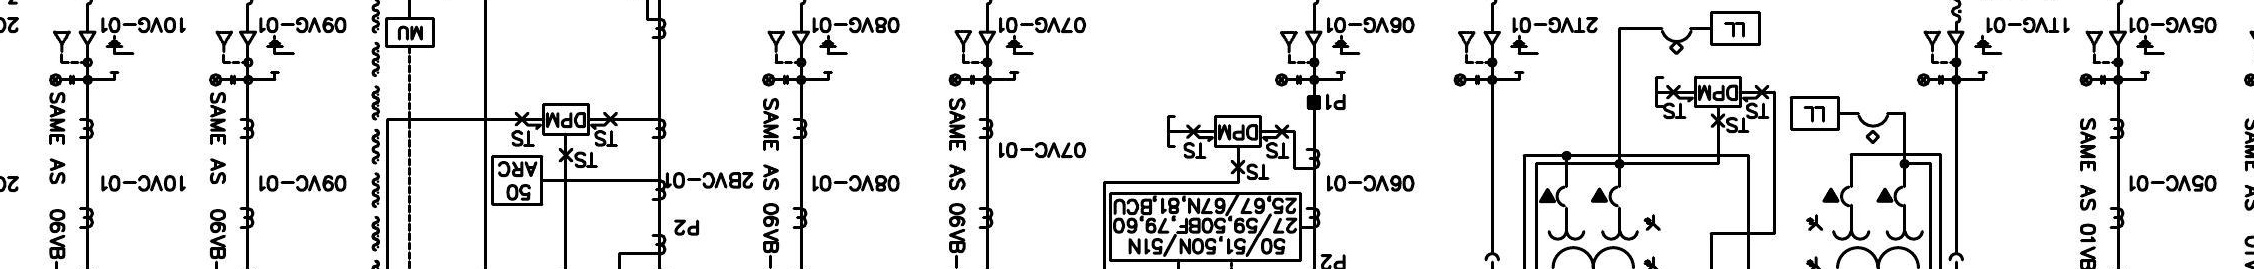22_gs: (2135, 35, 2166, 75), (1972, 35, 2004, 75), (264, 35, 296, 75), (1509, 35, 1540, 75), (1331, 35, 1361, 75), (1005, 35, 1035, 75), (818, 35, 848, 75), (105, 35, 135, 75)
22_ll: (1916, 72, 1945, 88), (1452, 72, 1481, 88), (1274, 72, 1302, 88), (947, 72, 976, 88), (208, 72, 237, 88), (2079, 73, 2107, 88), (47, 73, 76, 88), (762, 73, 789, 88)
DPM: (1213, 114, 1264, 148), (542, 102, 591, 137), (1693, 75, 1742, 108)
LL: (1790, 95, 1841, 132), (1709, 10, 1761, 46)
MU: (385, 16, 436, 49)
terminator_w_future: (52, 30, 98, 65), (2083, 30, 2127, 65), (1279, 30, 1324, 65), (1922, 30, 1965, 65), (1458, 30, 1501, 65), (953, 30, 996, 65), (768, 30, 811, 65), (214, 30, 257, 65)
